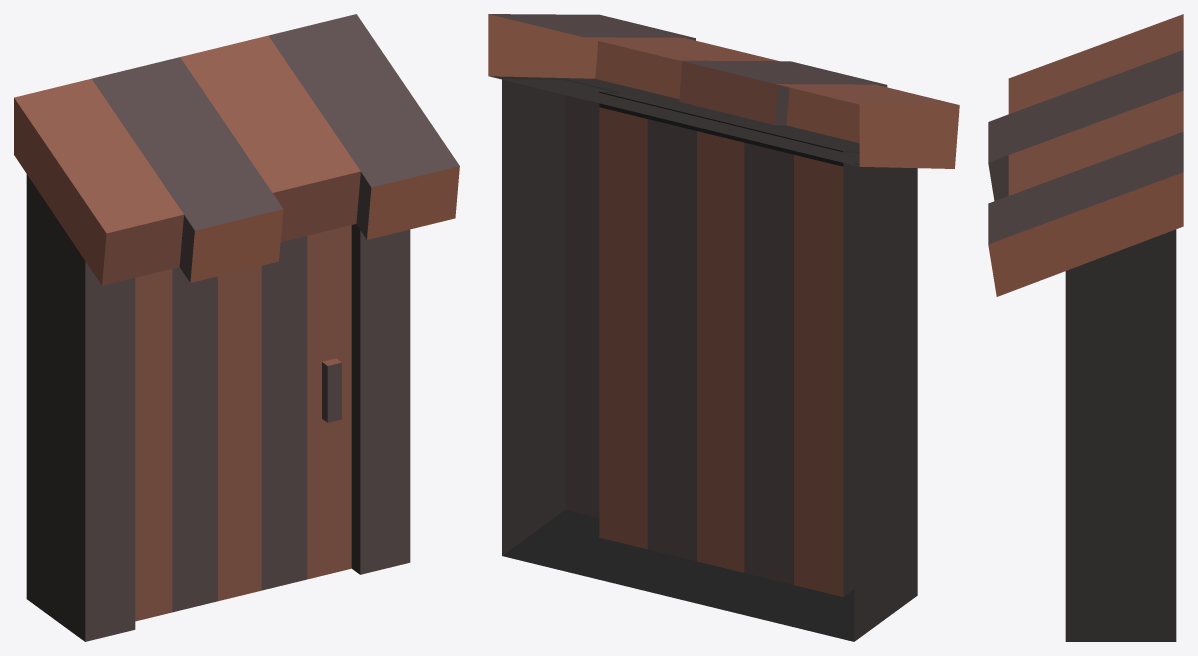
The model's file is TB_D_Bd_Roof_DoorSet_B.FBX.
The picture shows the model from 3 angles, left to right: view 1: azimuth 30°, elevation 25°; view 2: azimuth 150°, elevation 25°; view 3: azimuth 270°, elevation 25°; orthographic projection. The views are drawn at different scales.
Visible parts, largest first — view 1: TB_D_Bd_Roof_DoorSet_B, TB_D_Bd_Roof_Door_B; view 2: TB_D_Bd_Roof_DoorSet_B, TB_D_Bd_Roof_Door_B; view 3: TB_D_Bd_Roof_DoorSet_B.
Boxes of the visible parts, bbox=[...] form: TB_D_Bd_Roof_DoorSet_B: bbox=[14, 14, 459, 641]; TB_D_Bd_Roof_Door_B: bbox=[135, 225, 351, 621]; TB_D_Bd_Roof_DoorSet_B: bbox=[488, 14, 959, 641]; TB_D_Bd_Roof_Door_B: bbox=[599, 107, 843, 596]; TB_D_Bd_Roof_DoorSet_B: bbox=[988, 14, 1183, 641].
Size of the model in its own units: 1.37 by 1.91 by 0.7153.
